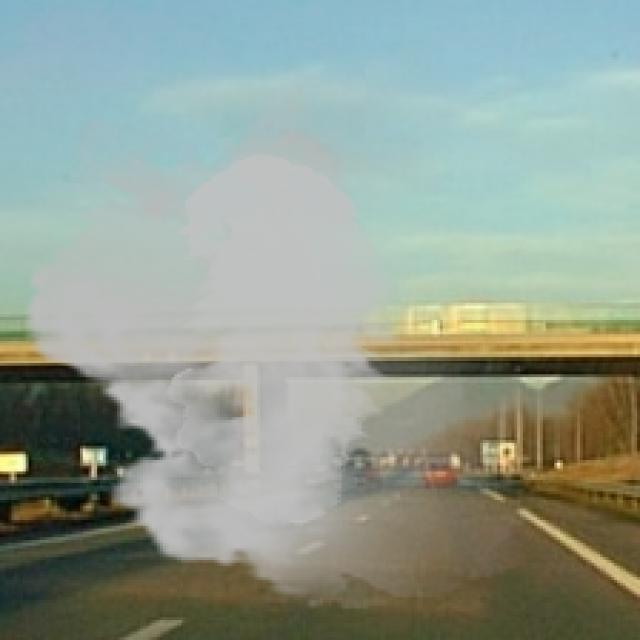smoke: (3, 86, 551, 608)
